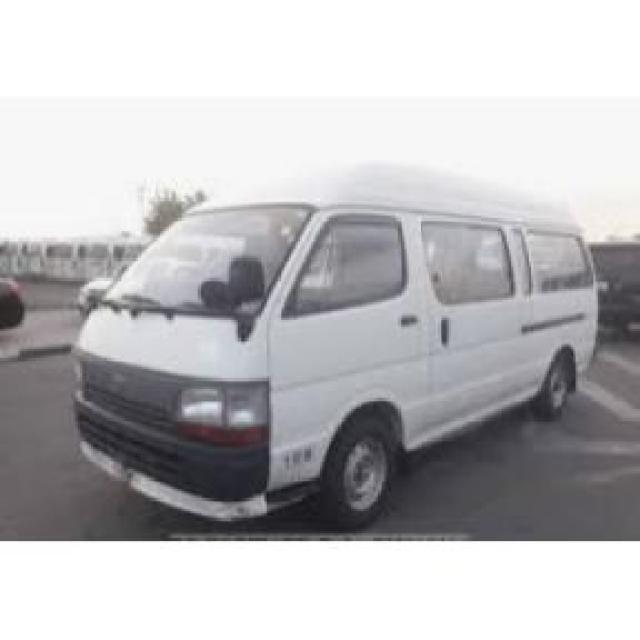Van: (69, 162, 600, 522)
